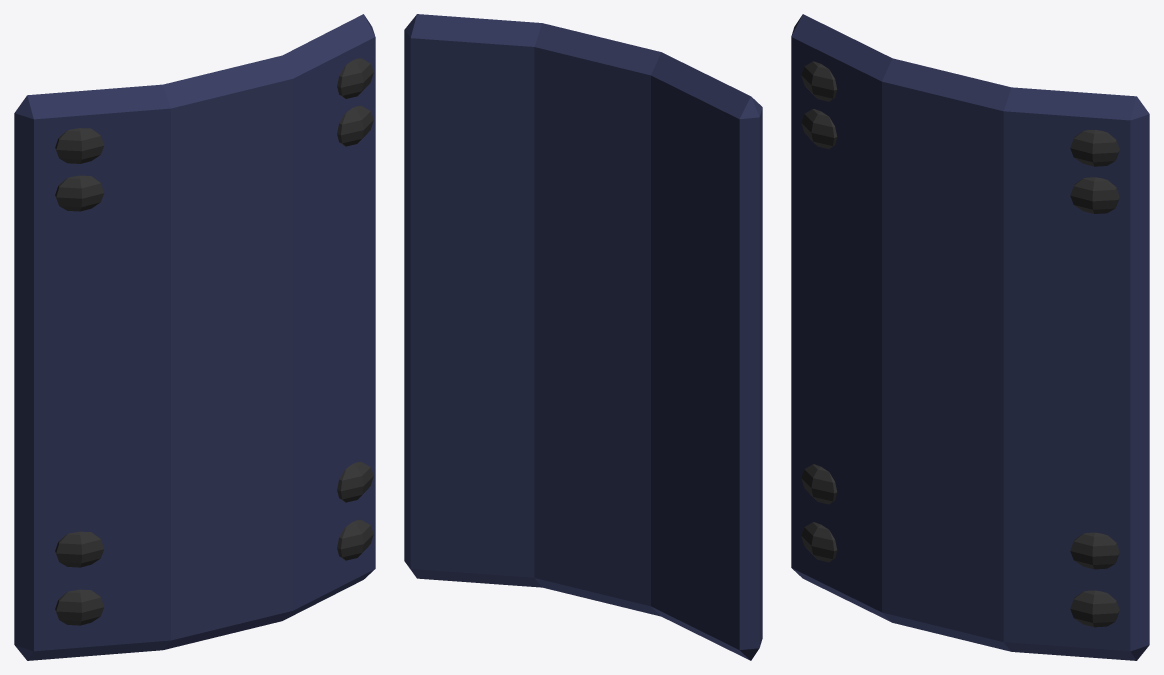
Rendered from ARMOOOOOOUR.fbx.
3 renders of one model, left to right at view 1: azimuth 30°, elevation 25°; view 2: azimuth 150°, elevation 25°; view 3: azimuth 330°, elevation 25°, orthographic.
Visible parts, largest first — view 1: Plane, Sphere; view 2: Plane; view 3: Plane, Sphere.
Part boxes in pixels (left/top/right/bottom): Plane: left=14, top=14, right=375, bottom=660; Sphere: left=55, top=58, right=373, bottom=625; Plane: left=404, top=14, right=762, bottom=660; Plane: left=791, top=14, right=1149, bottom=660; Sphere: left=801, top=61, right=1119, bottom=627.
Bounding box in the file's own units: 132 × 200 × 26.53.
